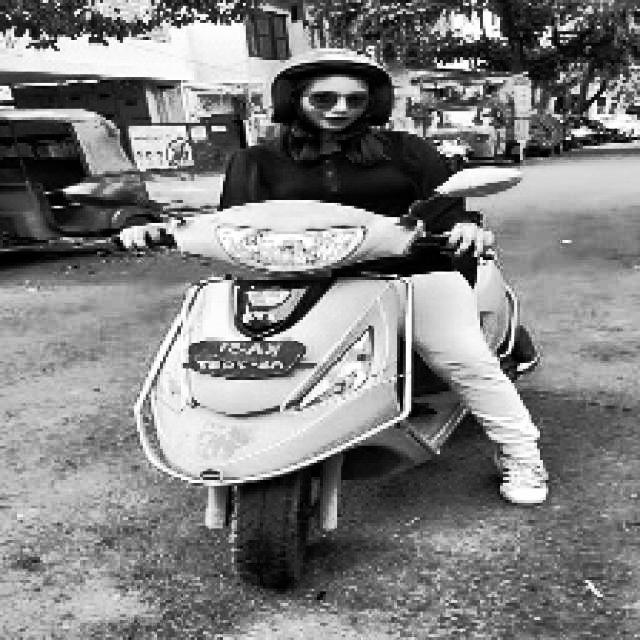Bike: (119, 213, 448, 583)
